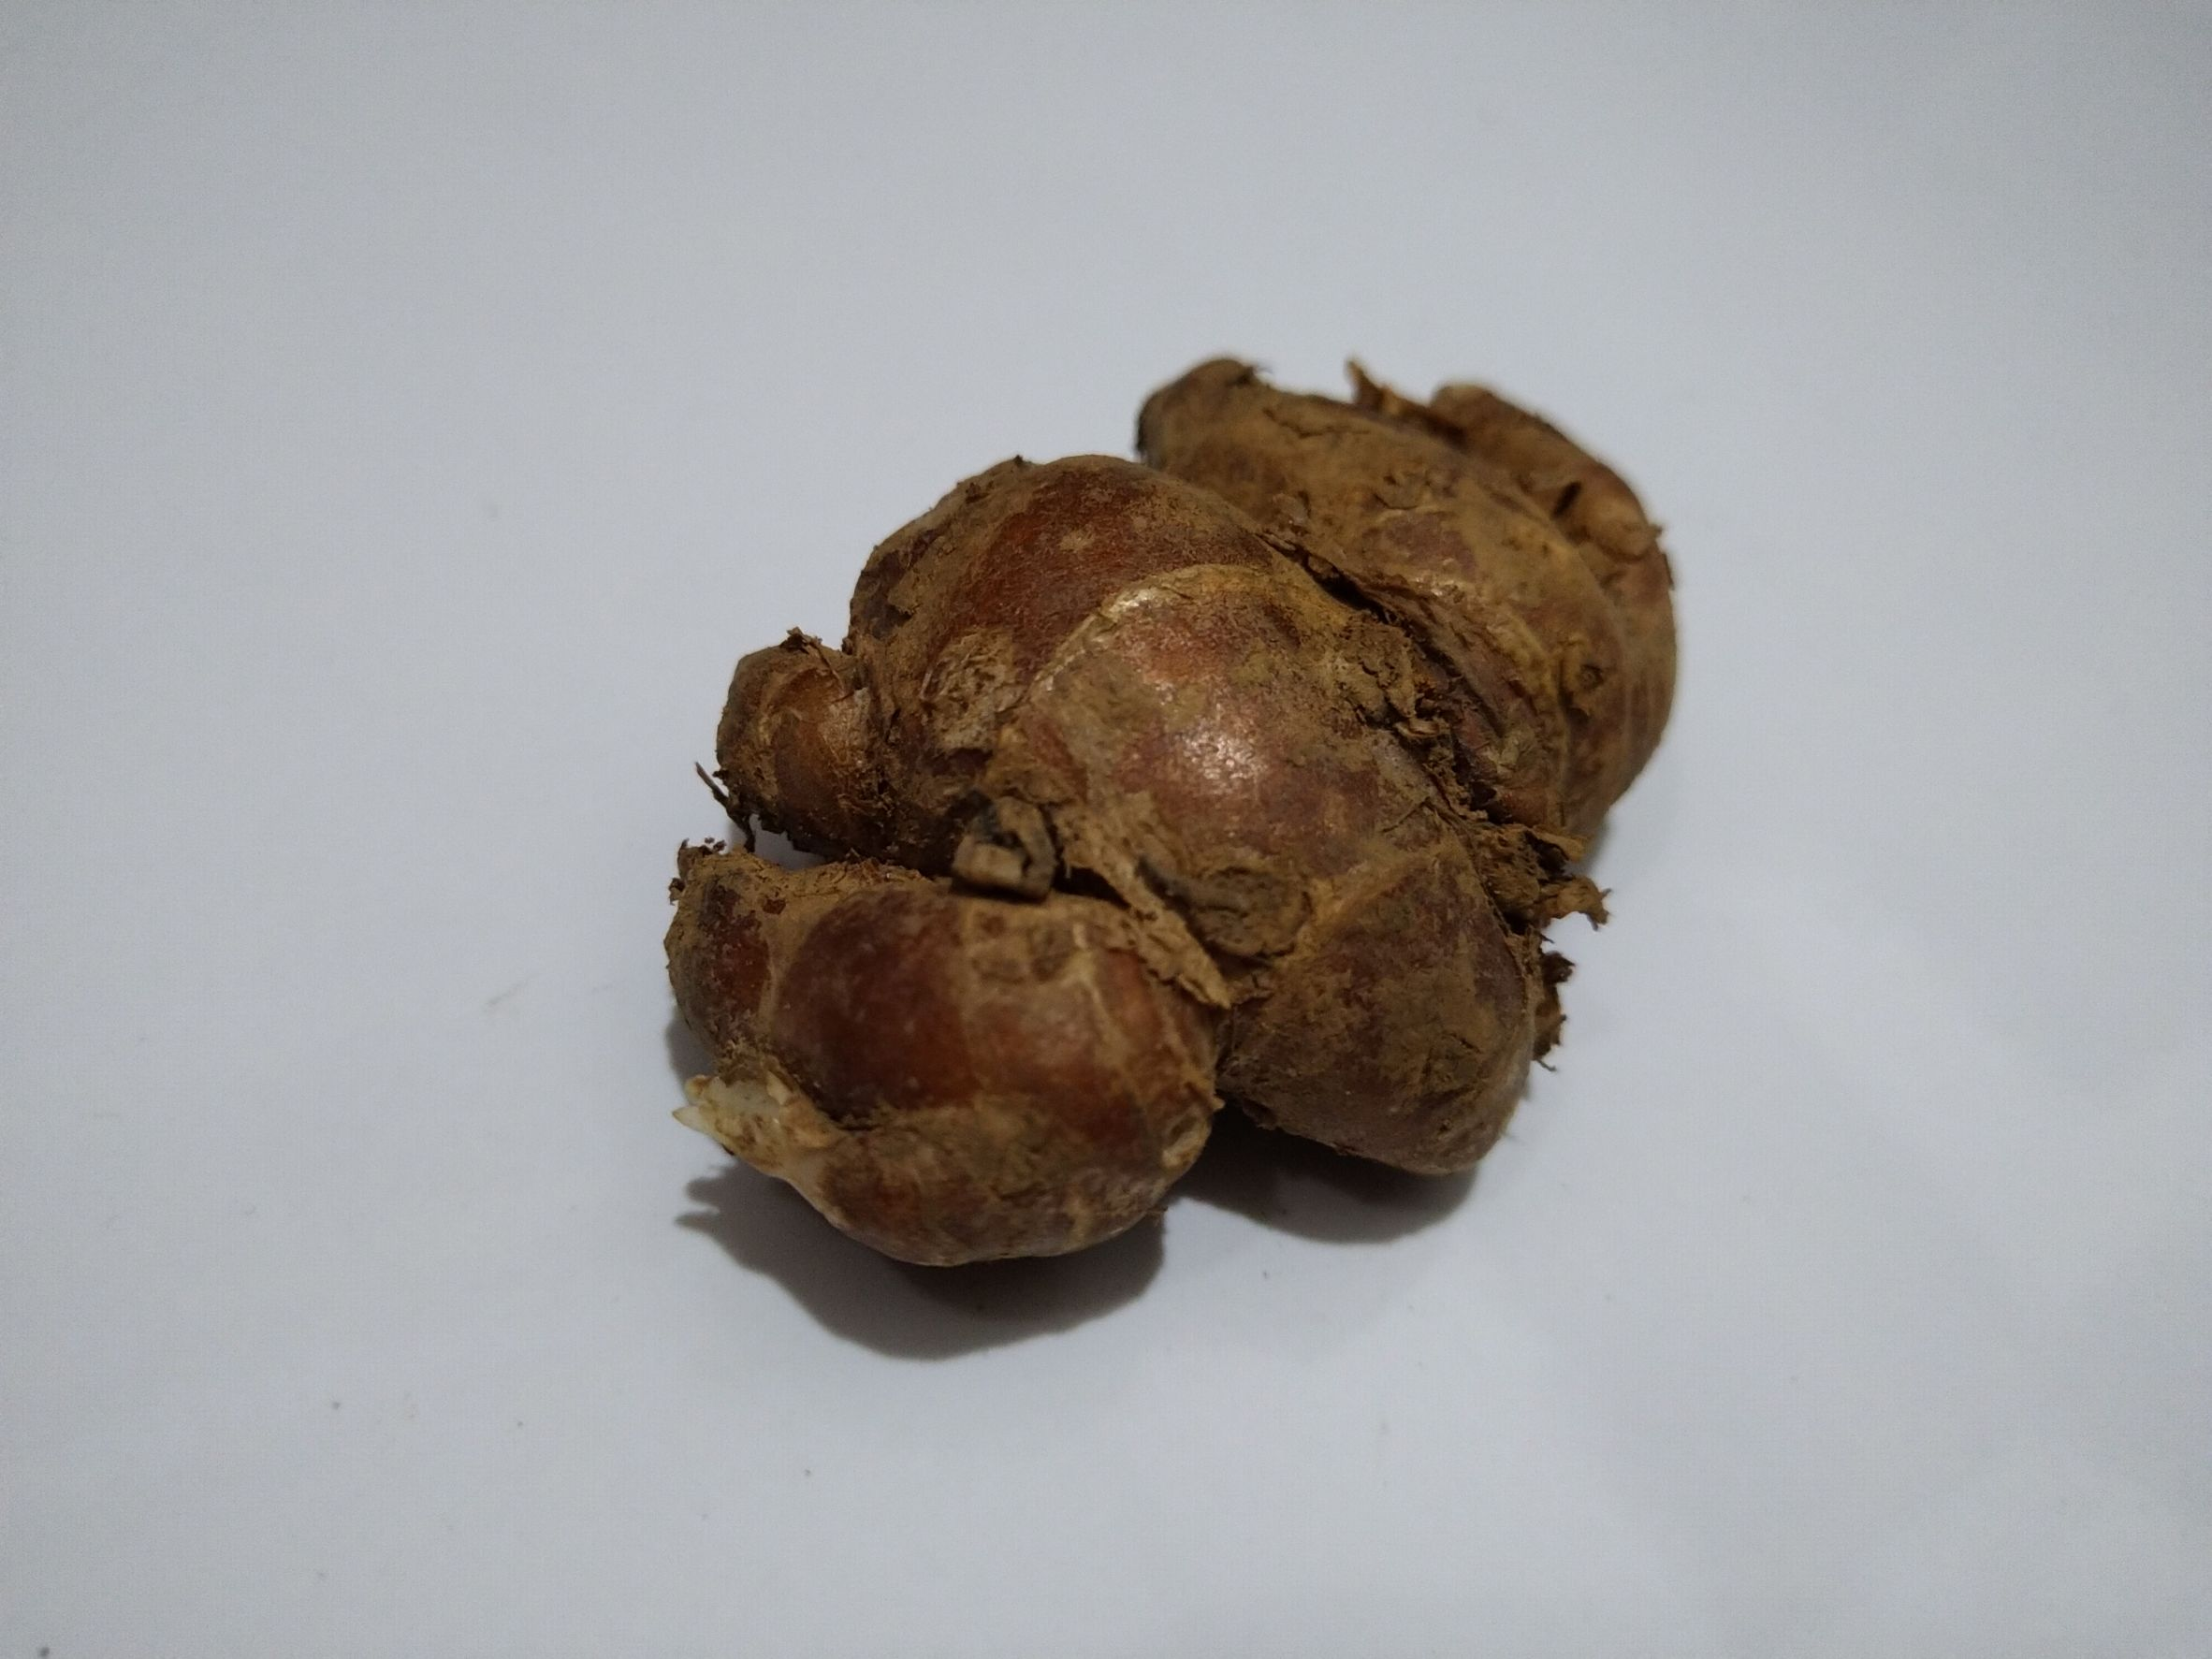Kencur: (690, 361, 1683, 1312)
